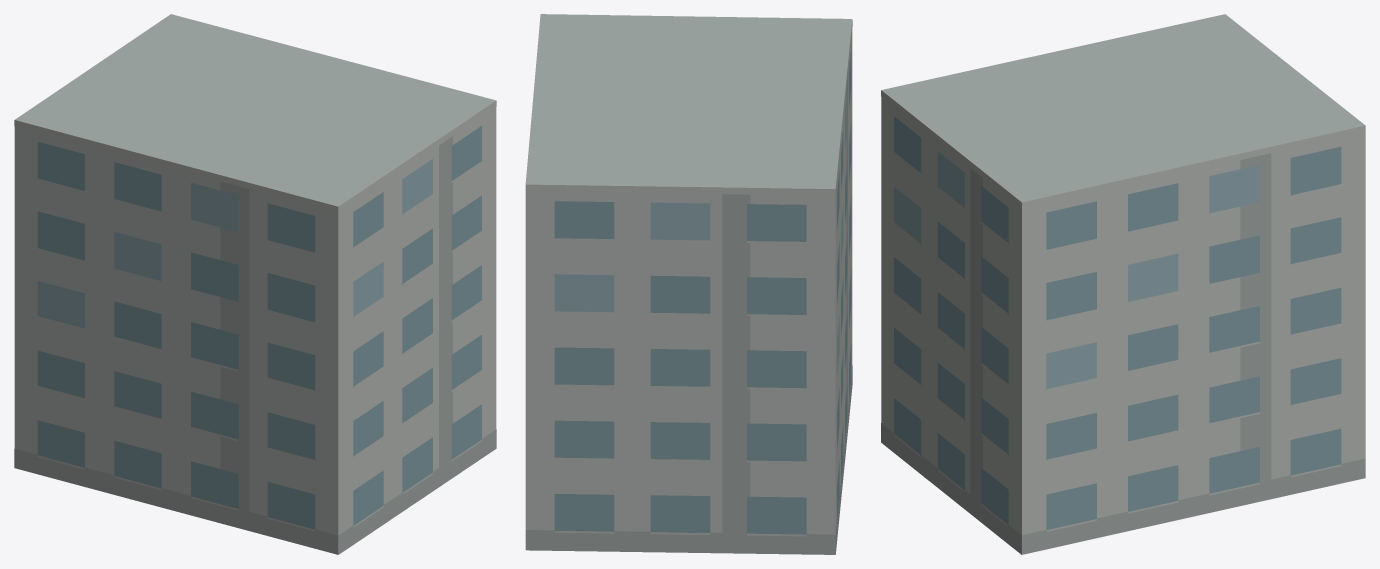
The model's file is survey-upis-32885938.glb.
3 renders of one model, left to right at view 1: azimuth 30°, elevation 25°; view 2: azimuth 150°, elevation 25°; view 3: azimuth 270°, elevation 25°, orthographic. The views are drawn at different scales.
Parts seen in each view (by area): view 1: survey-upis-32885938.tmp; view 2: survey-upis-32885938.tmp; view 3: survey-upis-32885938.tmp.
Boxes of the visible parts, x1,y1,x2,y2 form: survey-upis-32885938.tmp: (14, 14, 496, 554); survey-upis-32885938.tmp: (525, 14, 852, 554); survey-upis-32885938.tmp: (881, 14, 1365, 554).
Bounding box in the file's own units: 15.2 × 13.25 × 16.52.
